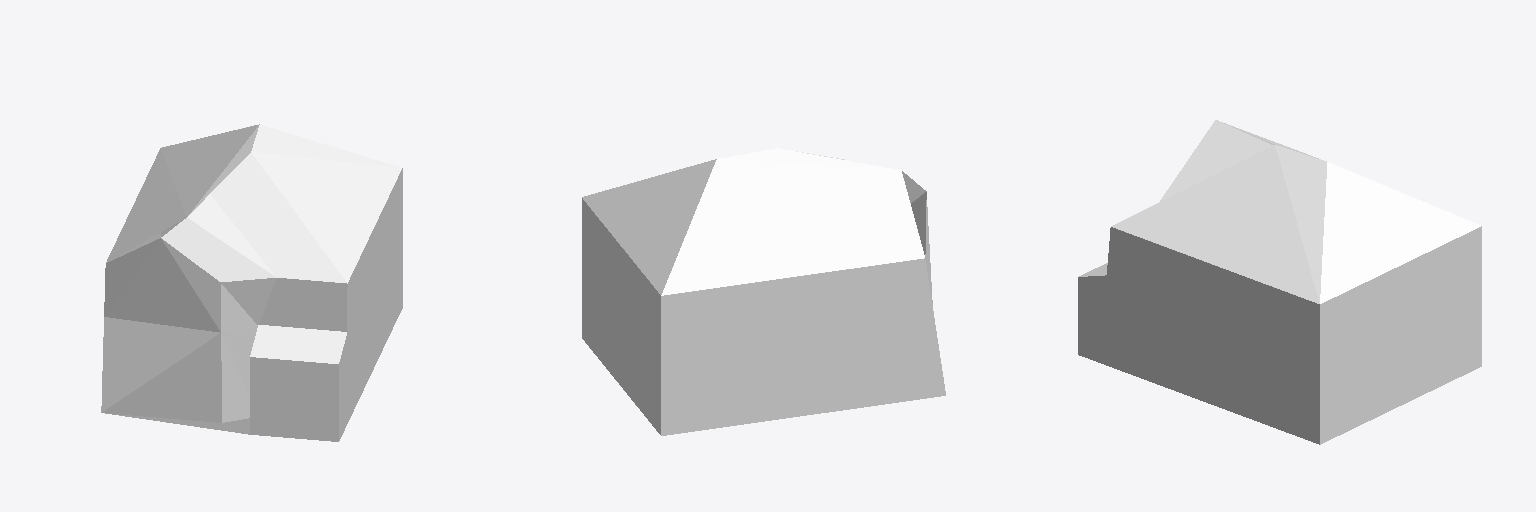
File: house_Shape 334.obj
3 renders of one model, left to right at view 1: azimuth 30°, elevation 25°; view 2: azimuth 150°, elevation 25°; view 3: azimuth 270°, elevation 25°, orthographic.
Parts seen in each view (by area): view 1: CityEngineMaterial_18, CityEngineMaterial_224, CityEngineMaterial_180, CityEngineMaterial_159, CityEngineMaterial_223; view 2: CityEngineMaterial_18, CityEngineMaterial_224, CityEngineMaterial_159, CityEngineMaterial_180; view 3: CityEngineMaterial_224, CityEngineMaterial_18, CityEngineMaterial_159, CityEngineMaterial_180.
Boxes of the visible parts, <box> form: CityEngineMaterial_18: <box>106,124,401,363</box>; CityEngineMaterial_224: <box>101,218,402,441</box>; CityEngineMaterial_180: <box>104,238,347,332</box>; CityEngineMaterial_159: <box>107,168,402,333</box>; CityEngineMaterial_223: <box>105,413,249,434</box>; CityEngineMaterial_18: <box>582,148,926,295</box>; CityEngineMaterial_224: <box>582,249,945,435</box>; CityEngineMaterial_159: <box>661,258,932,345</box>; CityEngineMaterial_180: <box>582,192,932,344</box>; CityEngineMaterial_224: <box>1078,275,1481,444</box>; CityEngineMaterial_18: <box>1079,120,1480,303</box>; CityEngineMaterial_159: <box>1107,227,1319,354</box>; CityEngineMaterial_180: <box>1320,226,1481,353</box>.
Size of the model in its own units: 17.38 by 10.74 by 18.28.